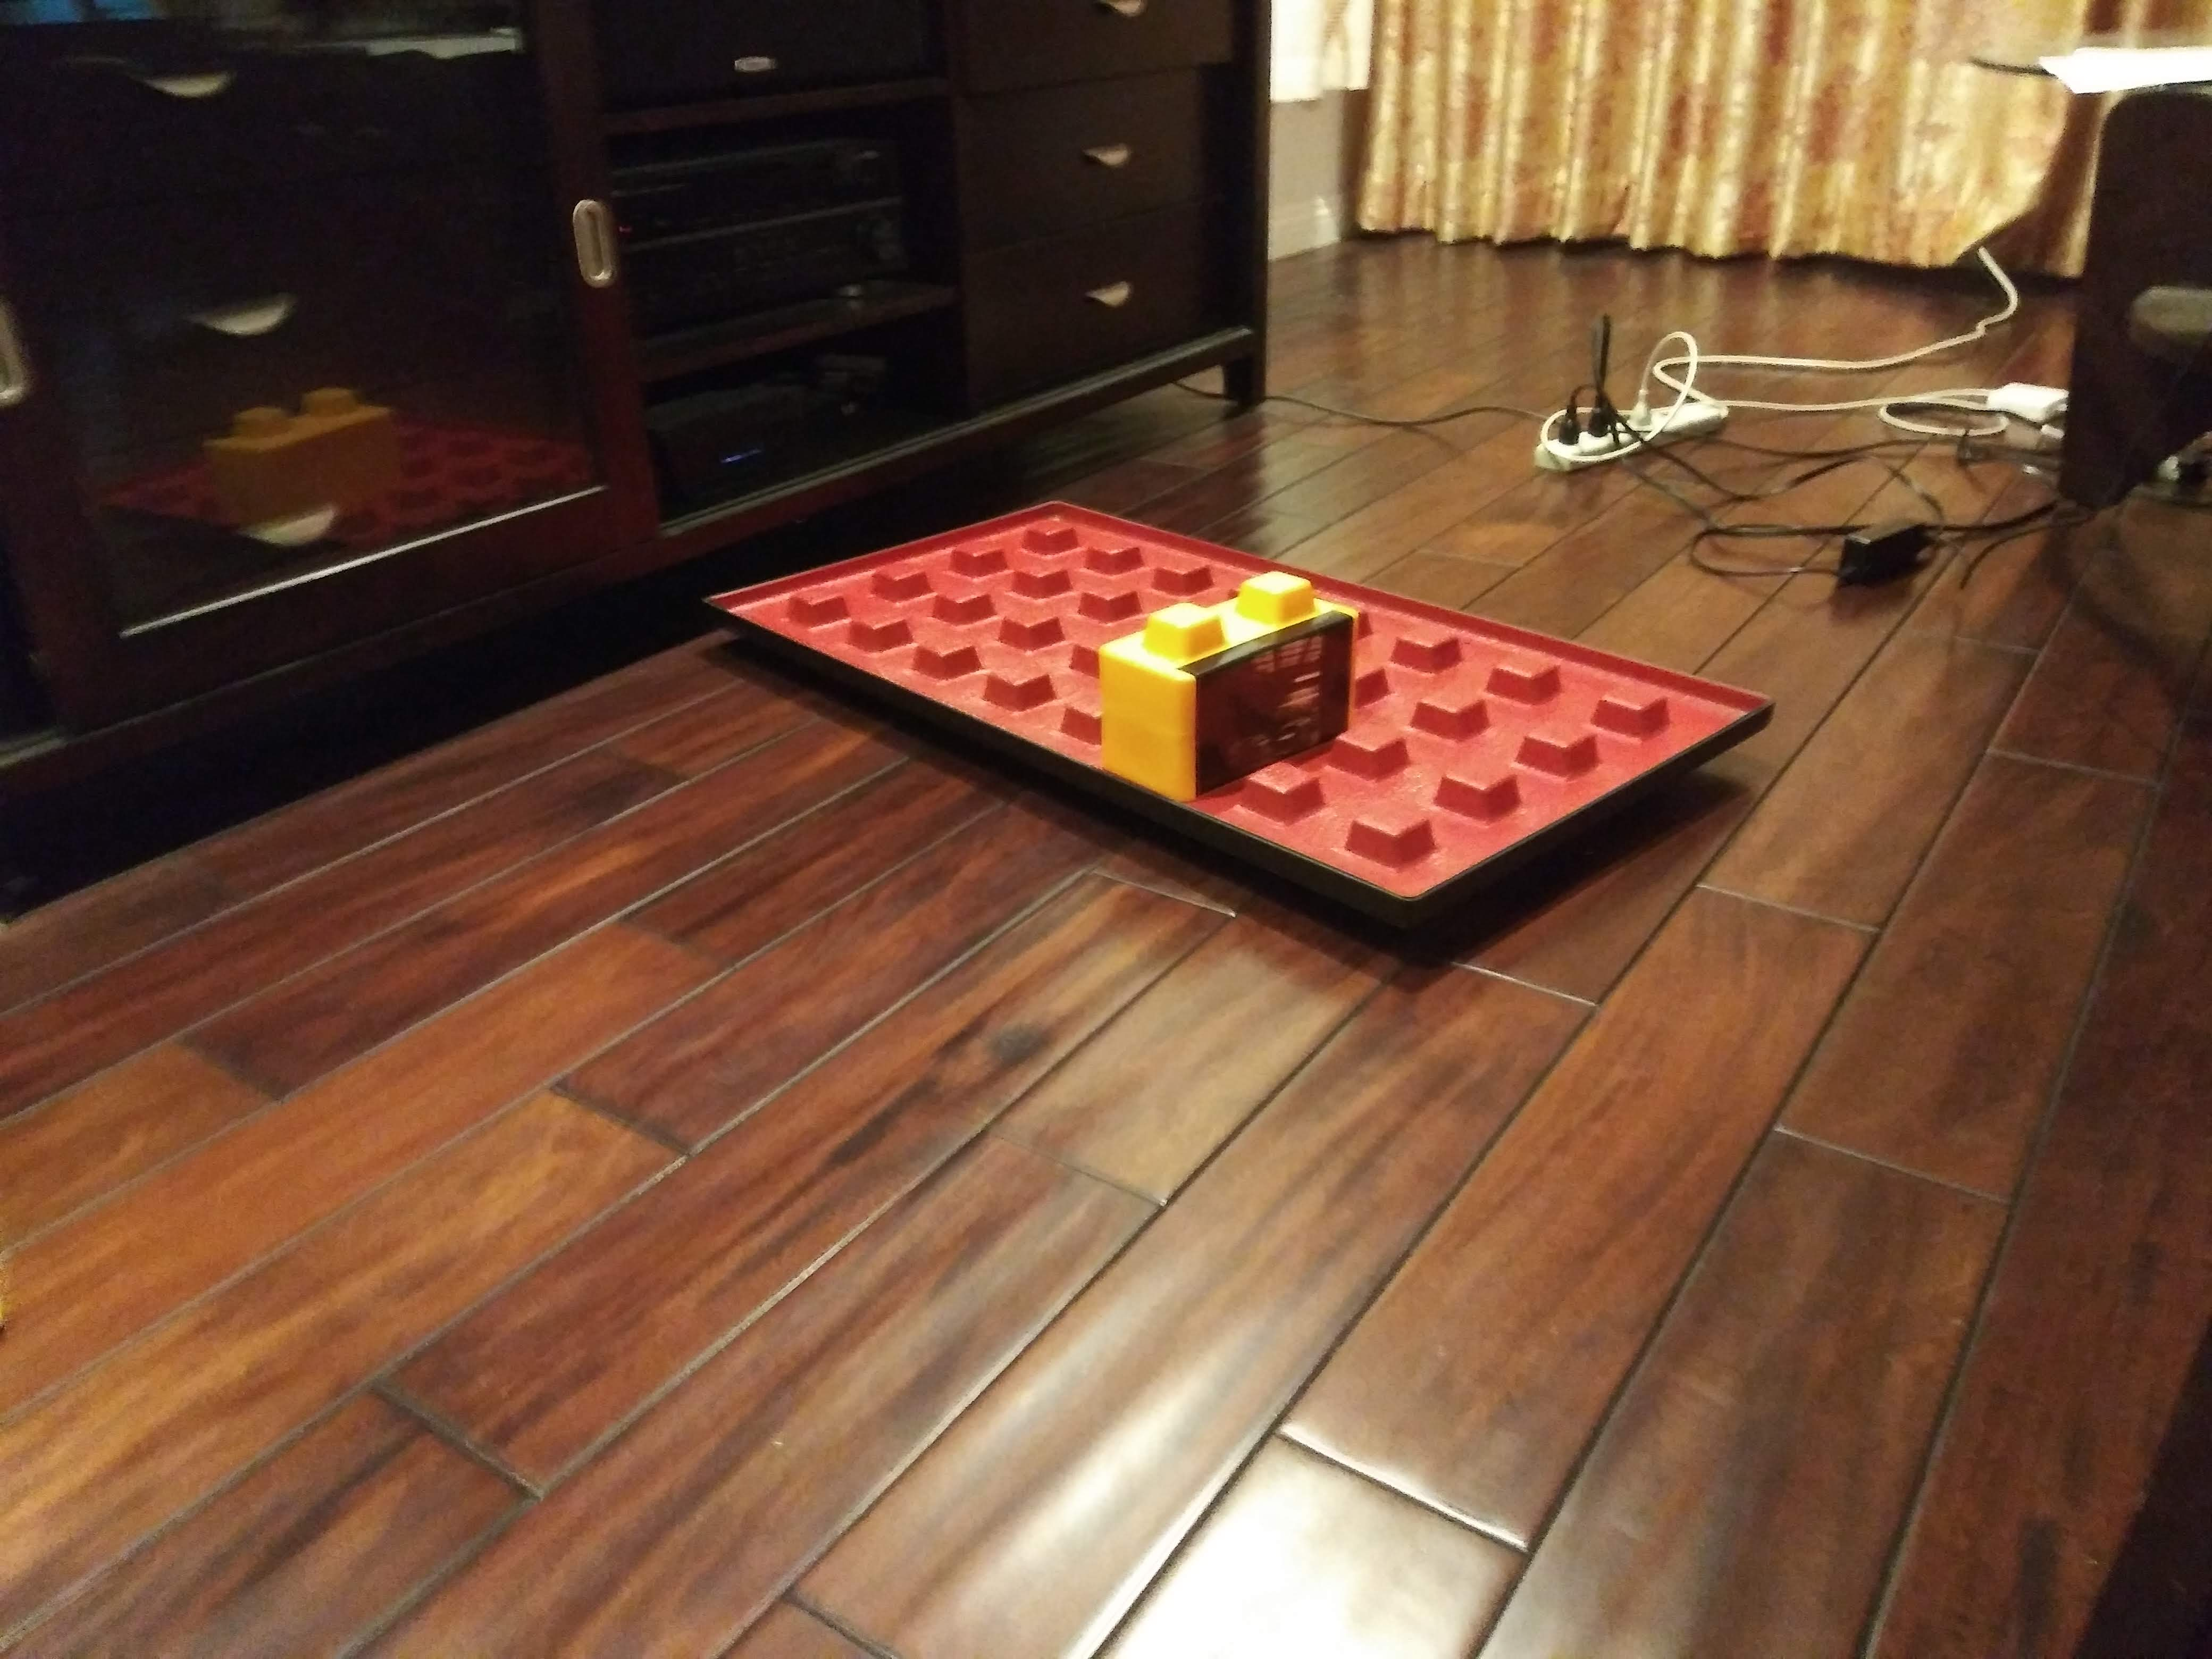red foundation: (688, 469, 1778, 938)
